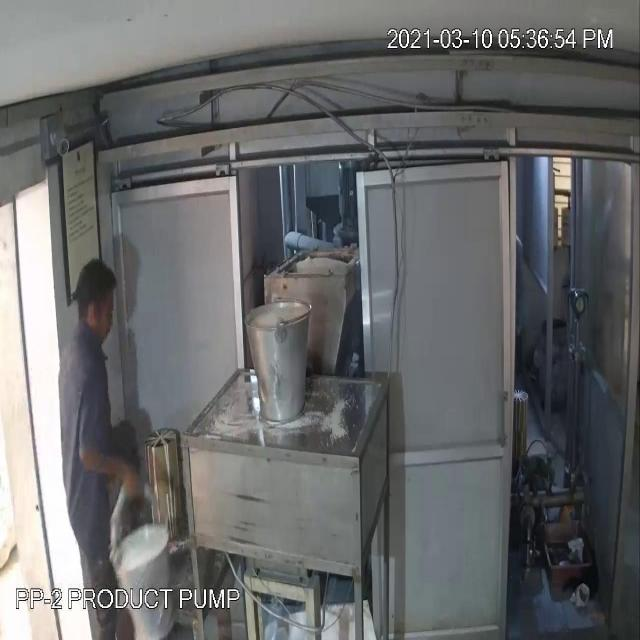No_Gloves: (81, 437, 143, 519)
